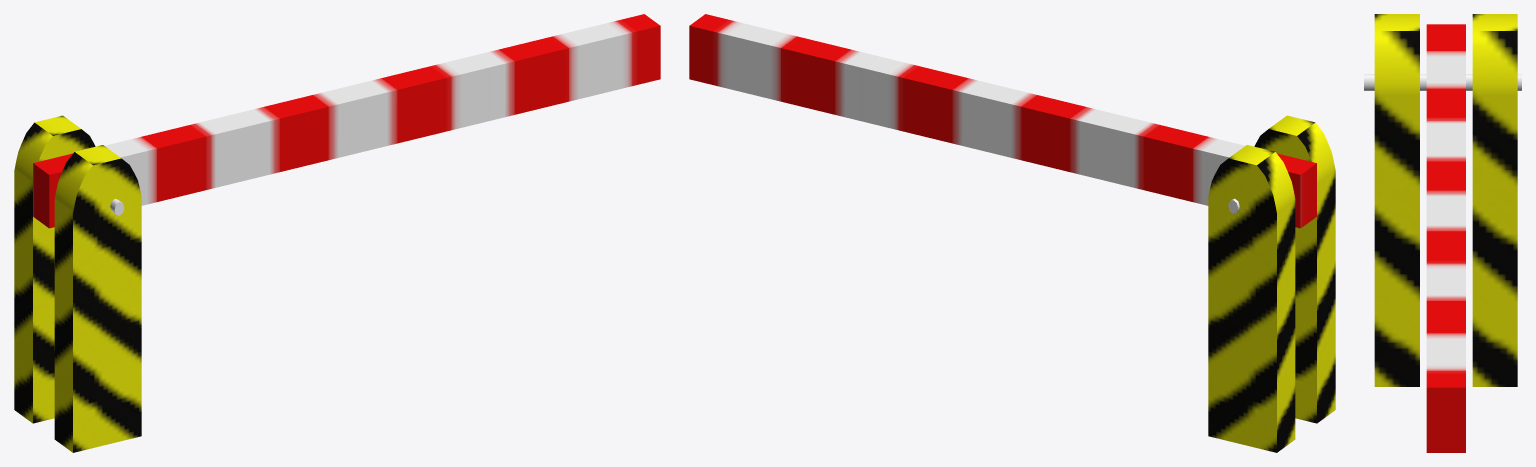
The model's file is moving_road_block.fbx.
The picture shows the model from 3 angles, left to right: view 1: azimuth 30°, elevation 25°; view 2: azimuth 150°, elevation 25°; view 3: azimuth 270°, elevation 25°; orthographic projection. The views are drawn at different scales.
Parts seen in each view (by area): view 1: Cylinder.001, Cube_001.001; view 2: Cylinder.001, Cube_001.001; view 3: Cube_001.001, Cylinder.001.
Boxes of the visible parts, x1,y1,x2,y2 form: Cylinder.001: [33, 14, 660, 228]; Cube_001.001: [14, 115, 141, 452]; Cylinder.001: [689, 14, 1316, 228]; Cube_001.001: [1208, 115, 1335, 452]; Cube_001.001: [1374, 14, 1517, 386]; Cylinder.001: [1364, 24, 1521, 452].
Size of the model in its own units: 71.83 by 31.75 by 13.2.
